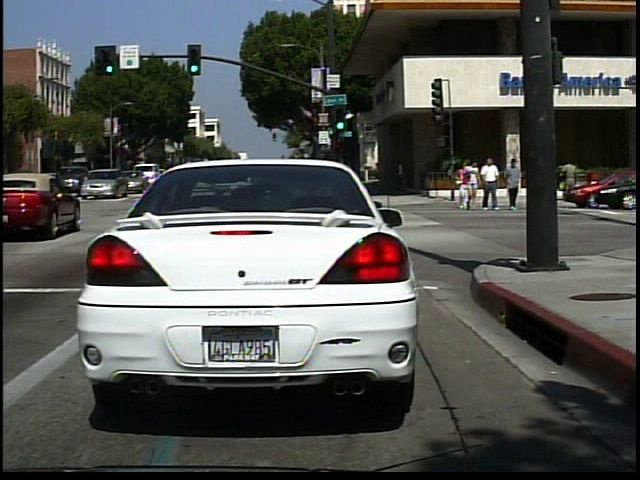person: (478, 154, 504, 214), (503, 156, 525, 211), (558, 156, 583, 204), (457, 163, 473, 213), (469, 157, 483, 210)
